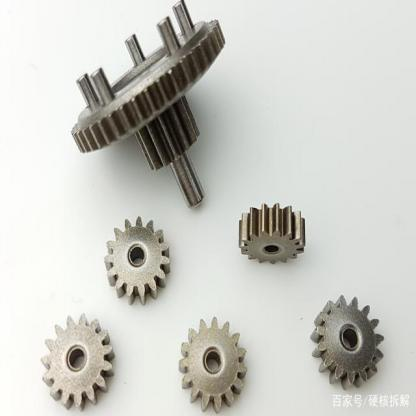FOD: (69, 13, 231, 172), (310, 292, 388, 394), (175, 312, 251, 415), (38, 313, 115, 412), (103, 214, 173, 306), (236, 201, 308, 268)
